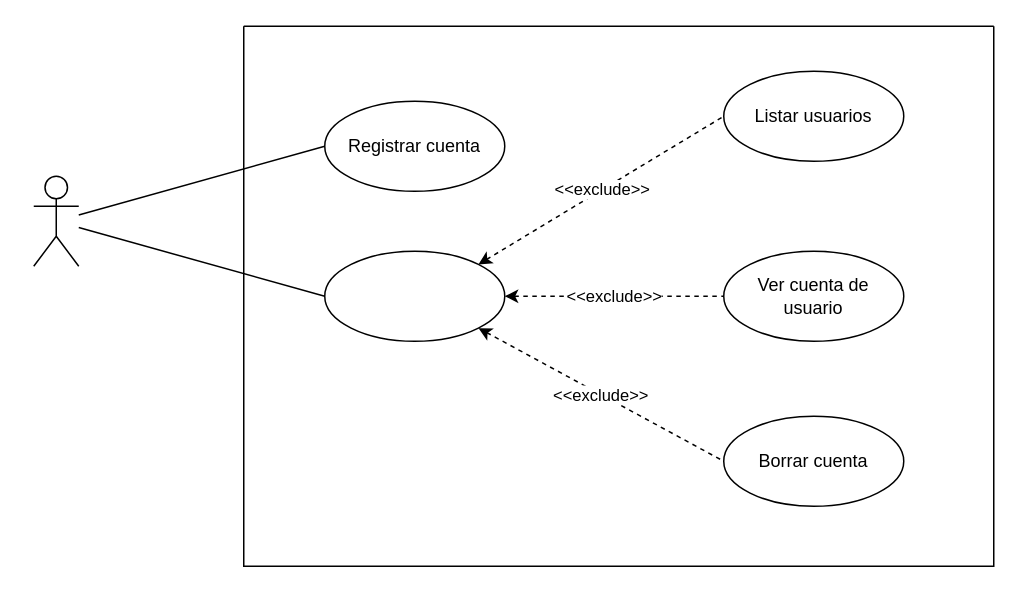
Image size: 1020x593. Some labels were removed from this diagram. The shapes that lost their labels are listed below. From the top down, each one's centre as x and y in pixels, then its label:
[55,220]: Usuario
[414,295]: Iniciar sesión
